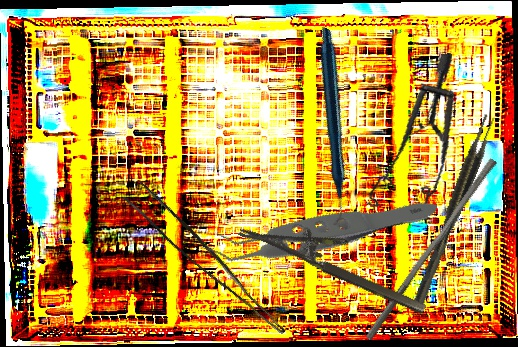Handpiece: (235, 25, 425, 228)
Needle Holder: (237, 198, 438, 317)
Pusher: (364, 153, 498, 346)
Speculum: (343, 52, 480, 230)
Tissue Forceps: (196, 131, 439, 322), (118, 179, 302, 335), (407, 112, 499, 307)
